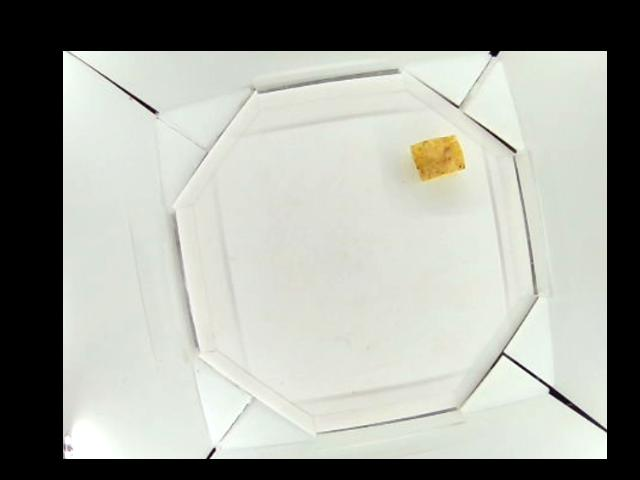Potato: (408, 132, 466, 180)
